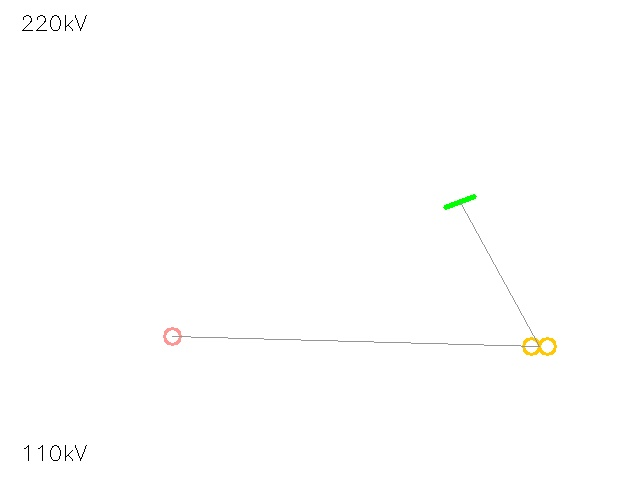busbar: (441, 183, 479, 221)
surge_arrester: (156, 320, 188, 352)
transformer_2w: (519, 326, 559, 366)
